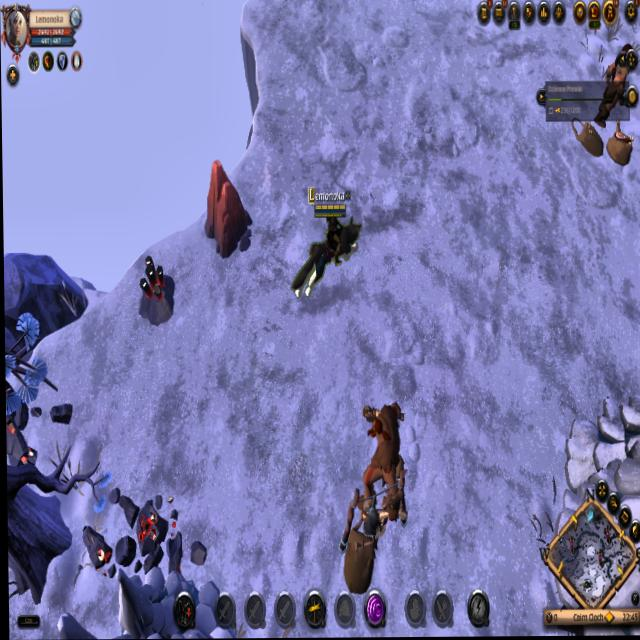ore tier 5: (132, 255, 174, 327)
rock tier 5: (202, 158, 255, 263)
